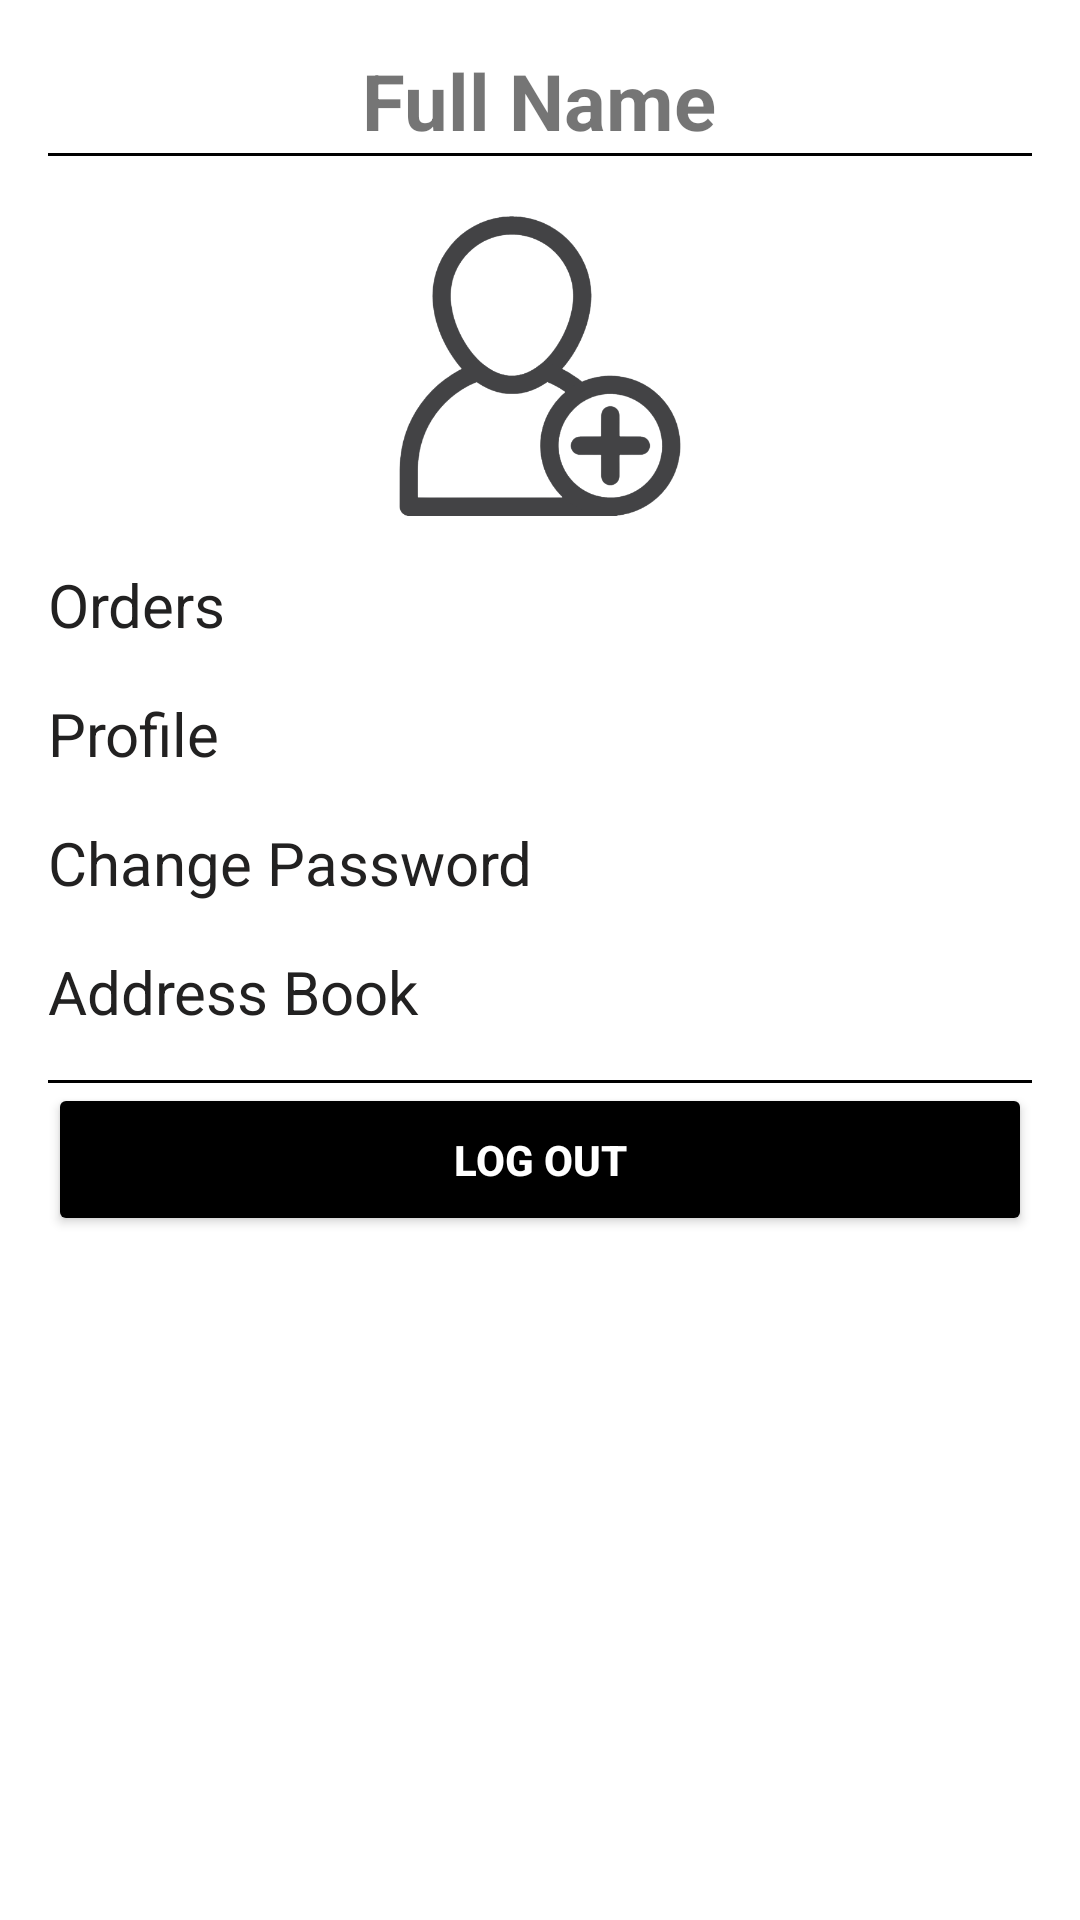

Named icons in this screenshot (1080*1920) and their bounding boxes, bbox=[x1, y1, x2, y2]:
profile picture: bbox=[399, 216, 681, 516]
